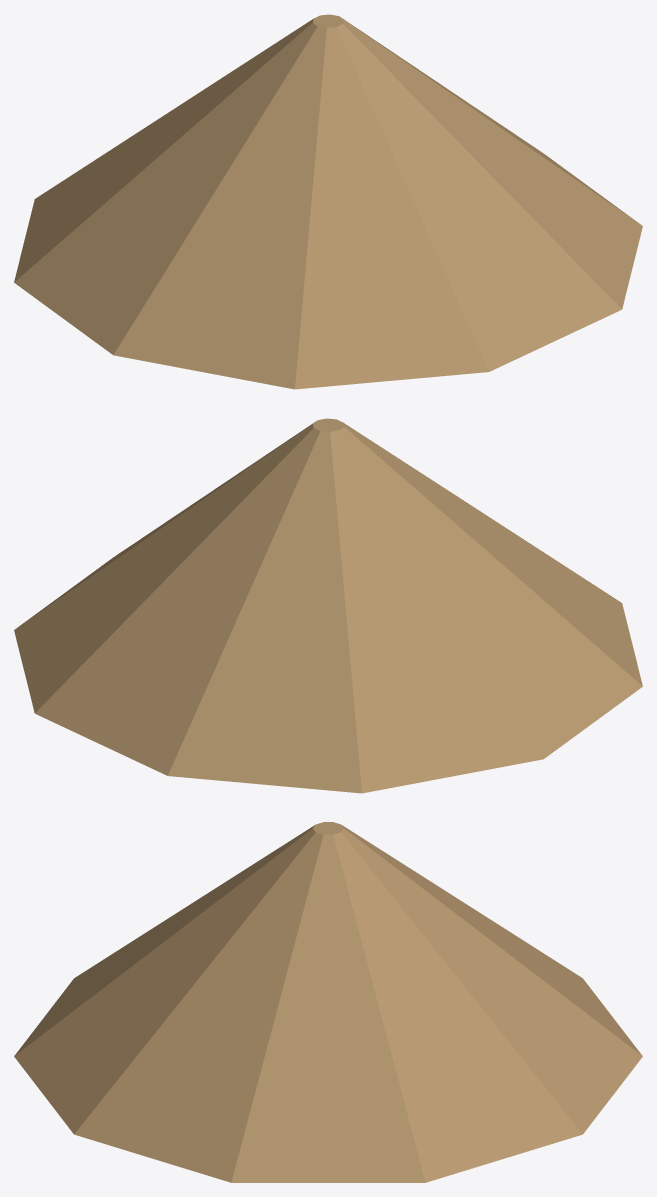
Rendered from hat_conical.glb.
3 renders of one model, top to bottom at view 1: azimuth 30°, elevation 25°; view 2: azimuth 150°, elevation 25°; view 3: azimuth 270°, elevation 25°, orthographic. The views are drawn at different scales.
Visible parts, largest first — view 1: conical; view 2: conical; view 3: conical.
Part boxes in pixels (box(x1,y1,x2,y2)): conical: box(14, 14, 642, 389); conical: box(14, 418, 642, 793); conical: box(14, 822, 642, 1182).
Size of the model in its own units: 0.5706 by 0.24 by 0.6.
